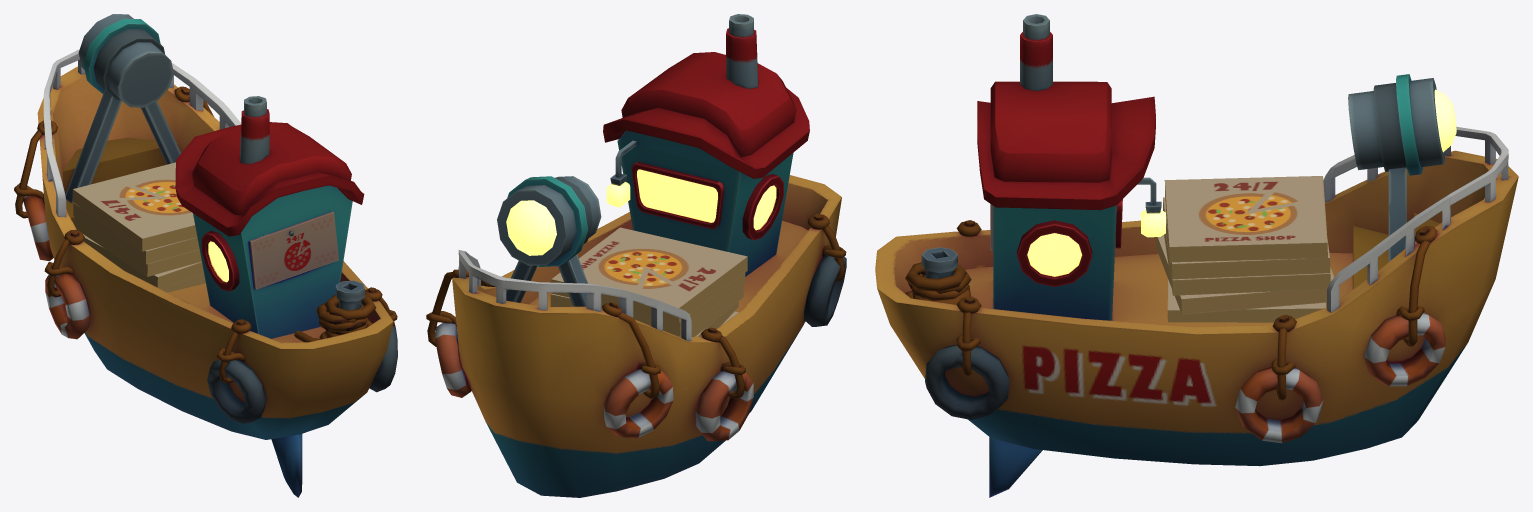
Rendered from boat.fbx.
3 renders of one model, left to right at view 1: azimuth 30°, elevation 25°; view 2: azimuth 150°, elevation 25°; view 3: azimuth 270°, elevation 25°, orthographic. The views are drawn at different scales.
Visible parts, largest first — view 1: boat, pizza; view 2: boat, pizza; view 3: boat, pizza.
Boxes of the visible parts, box(x1,y1,x2,y2) form: boat: box(14, 14, 397, 497); pizza: box(72, 162, 205, 292); boat: box(426, 14, 846, 497); pizza: box(550, 227, 747, 337); boat: box(875, 14, 1518, 497); pizza: box(1156, 176, 1334, 322).
Bounding box in the file's own units: 241 × 345 × 434.
Materials: 2 (2 with a texture image).
